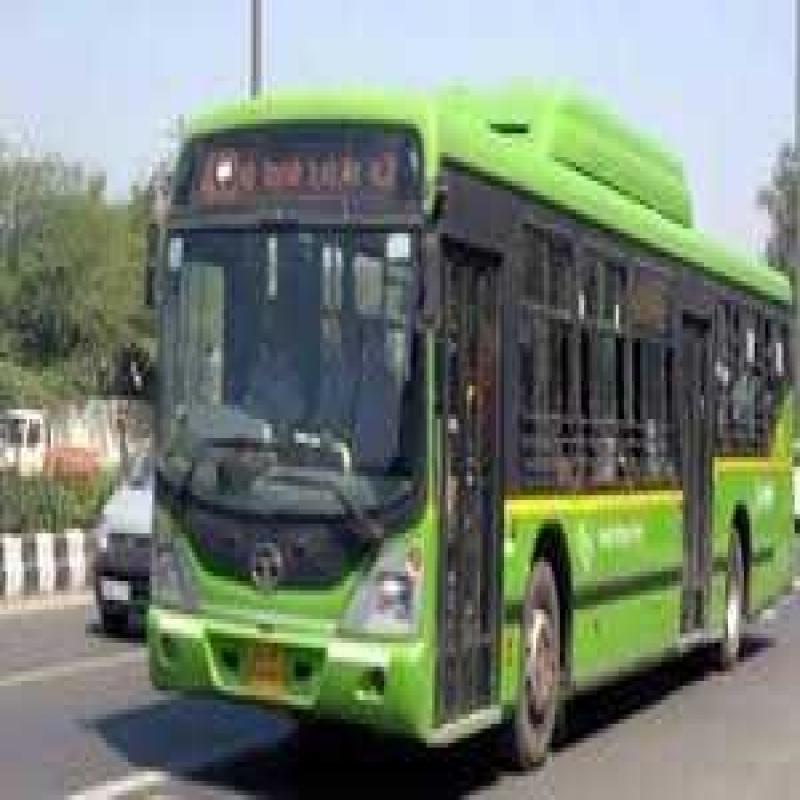bus: (152, 52, 800, 772)
